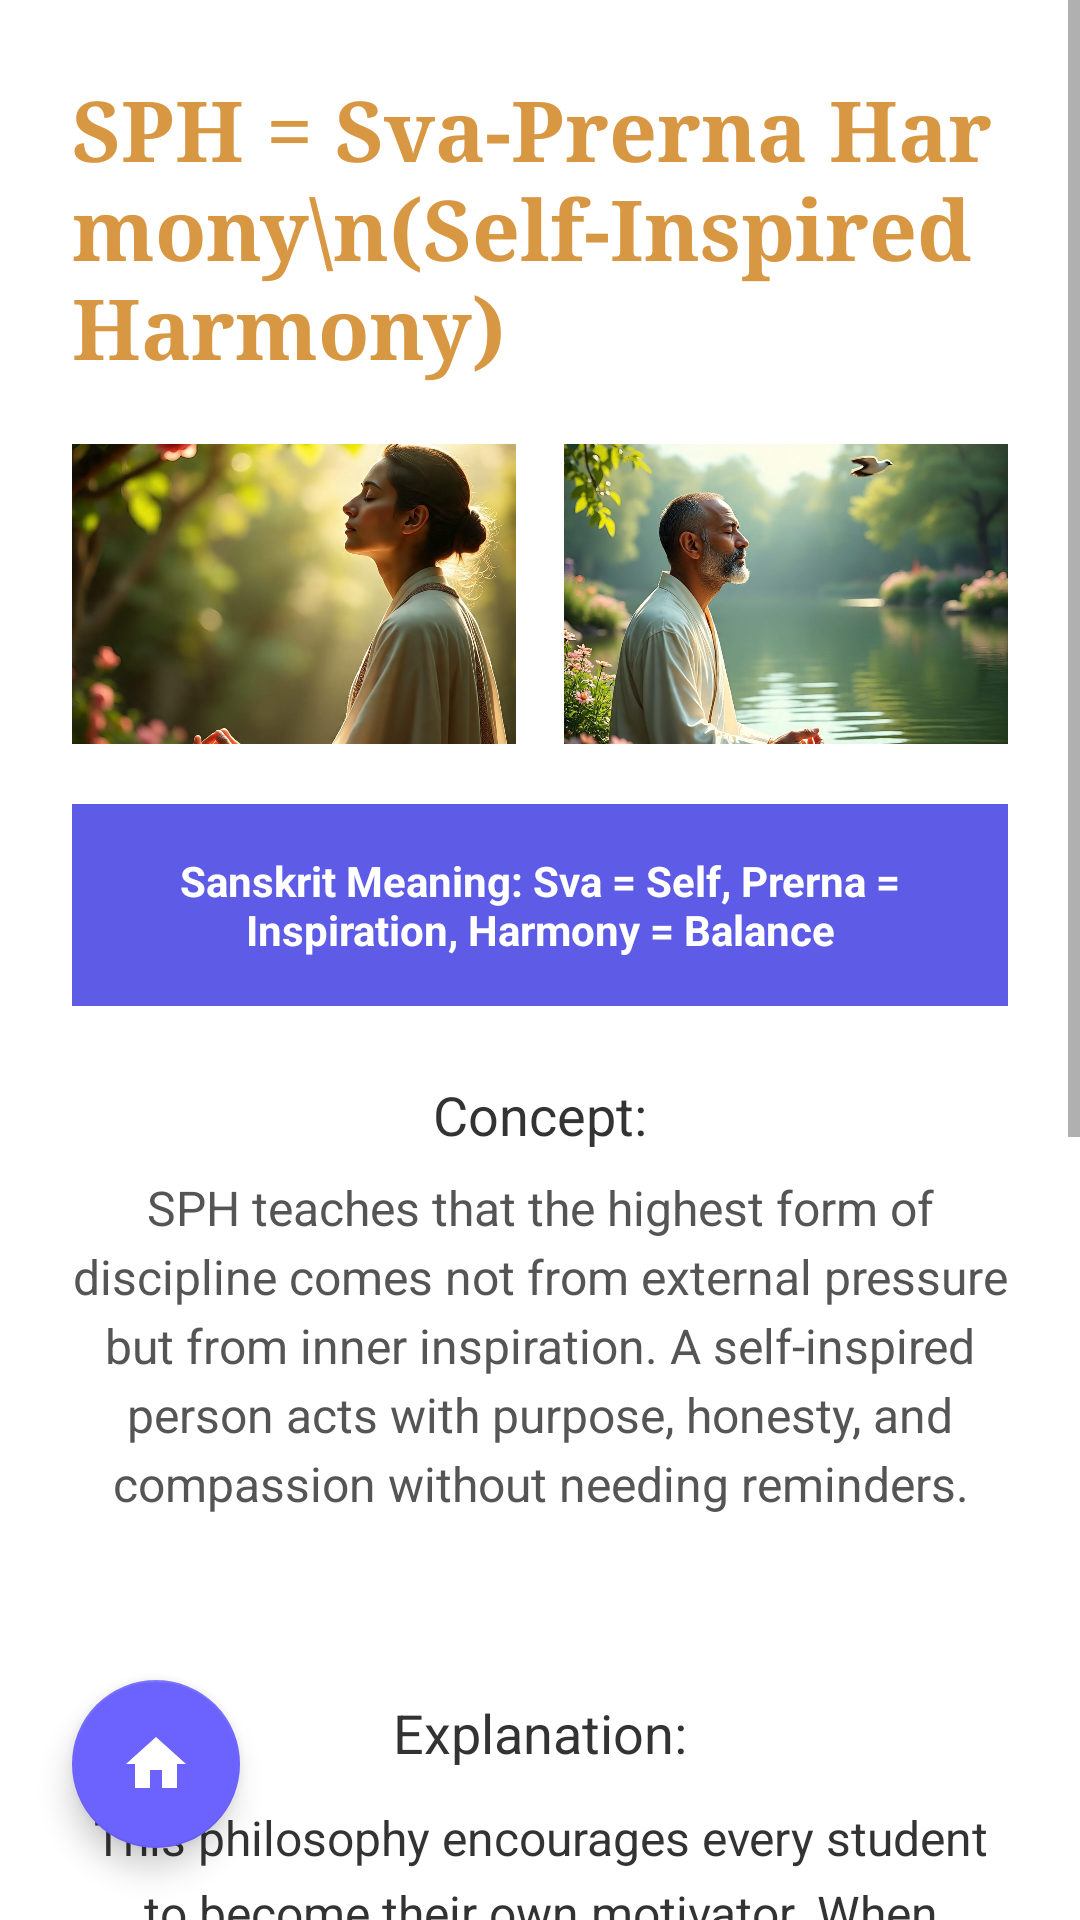

Point at icon controls on the screen. Image size 1080 x 1920, points as (x=x, y=y).
home: (x=156, y=1764)
